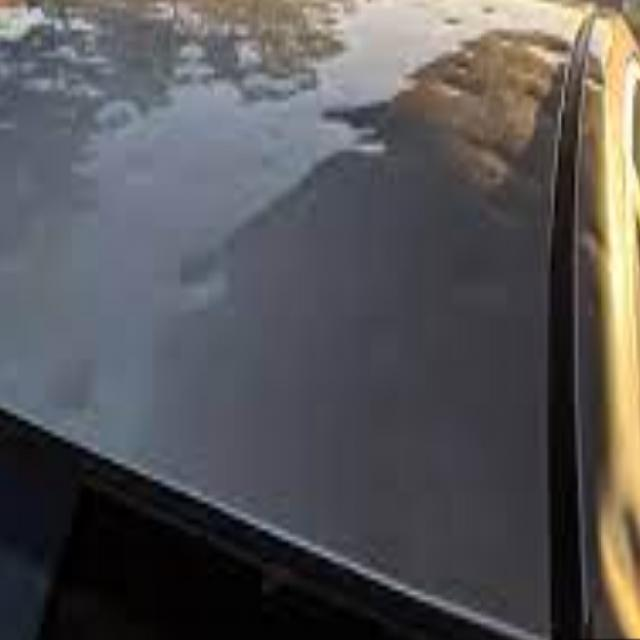dents: (448, 232, 512, 335), (598, 496, 640, 634), (48, 355, 115, 428), (470, 117, 524, 202), (168, 232, 223, 308), (438, 47, 496, 111), (578, 210, 616, 271), (532, 21, 576, 73), (441, 5, 474, 42)
